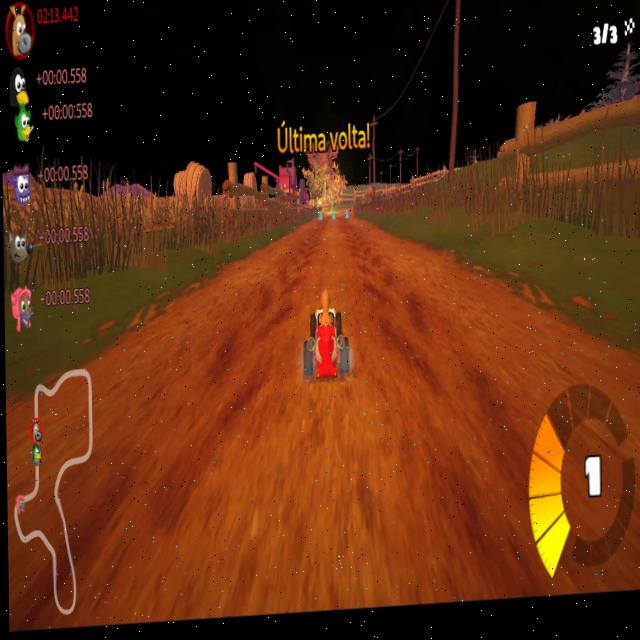bonus: (316, 209, 325, 222), (328, 208, 337, 221), (343, 206, 350, 218)
player_kart: (297, 291, 350, 380)
track: (10, 353, 640, 640), (348, 261, 550, 382), (108, 320, 302, 391), (302, 220, 437, 274), (180, 278, 301, 324), (552, 307, 605, 360), (243, 247, 304, 282), (288, 229, 303, 246)
